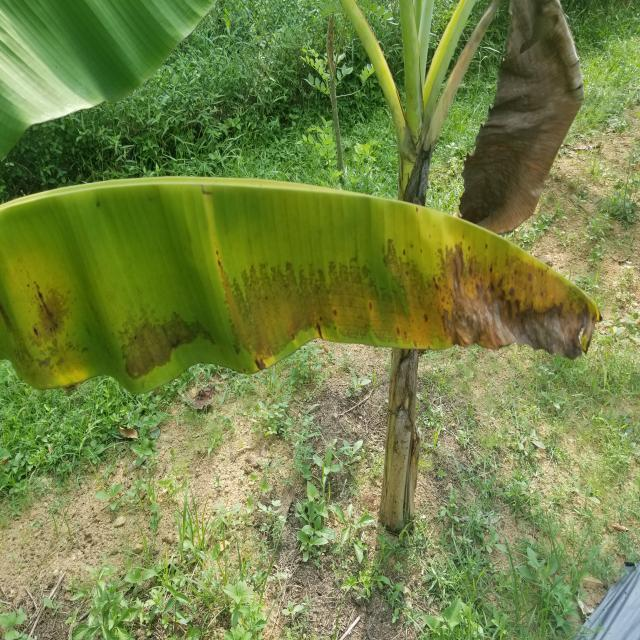Early_rust: (0, 168, 597, 460)
